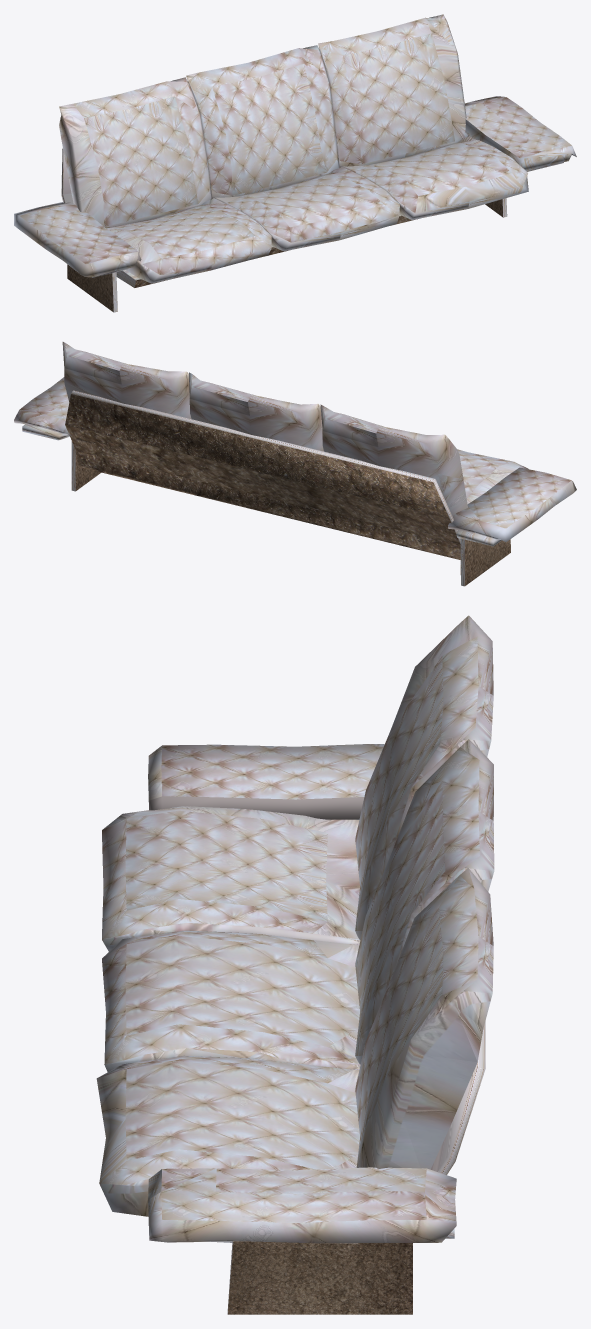
The model's file is sofa6.glb.
3 renders of one model, top to bottom at view 1: azimuth 30°, elevation 25°; view 2: azimuth 150°, elevation 25°; view 3: azimuth 270°, elevation 25°, orthographic. The views are drawn at different scales.
Visible parts, largest first — view 1: sofa3; view 2: sofa3; view 3: sofa3.
Part boxes in pixels (x1,y1,x2,y2): sofa3: [14, 14, 576, 312]; sofa3: [14, 342, 576, 586]; sofa3: [96, 615, 494, 1314].
Bounding box in the file's own units: 2.16 × 0.6747 × 0.7573.
2 materials, 2 textured.
